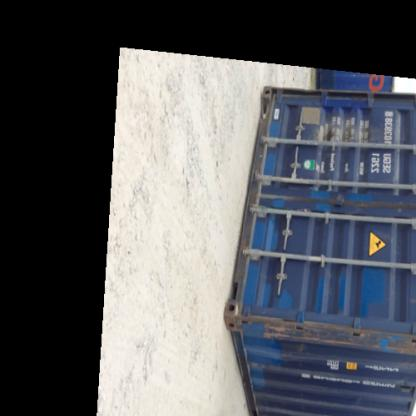Damage: (268, 314, 410, 354), (318, 114, 378, 143), (348, 387, 372, 409)
